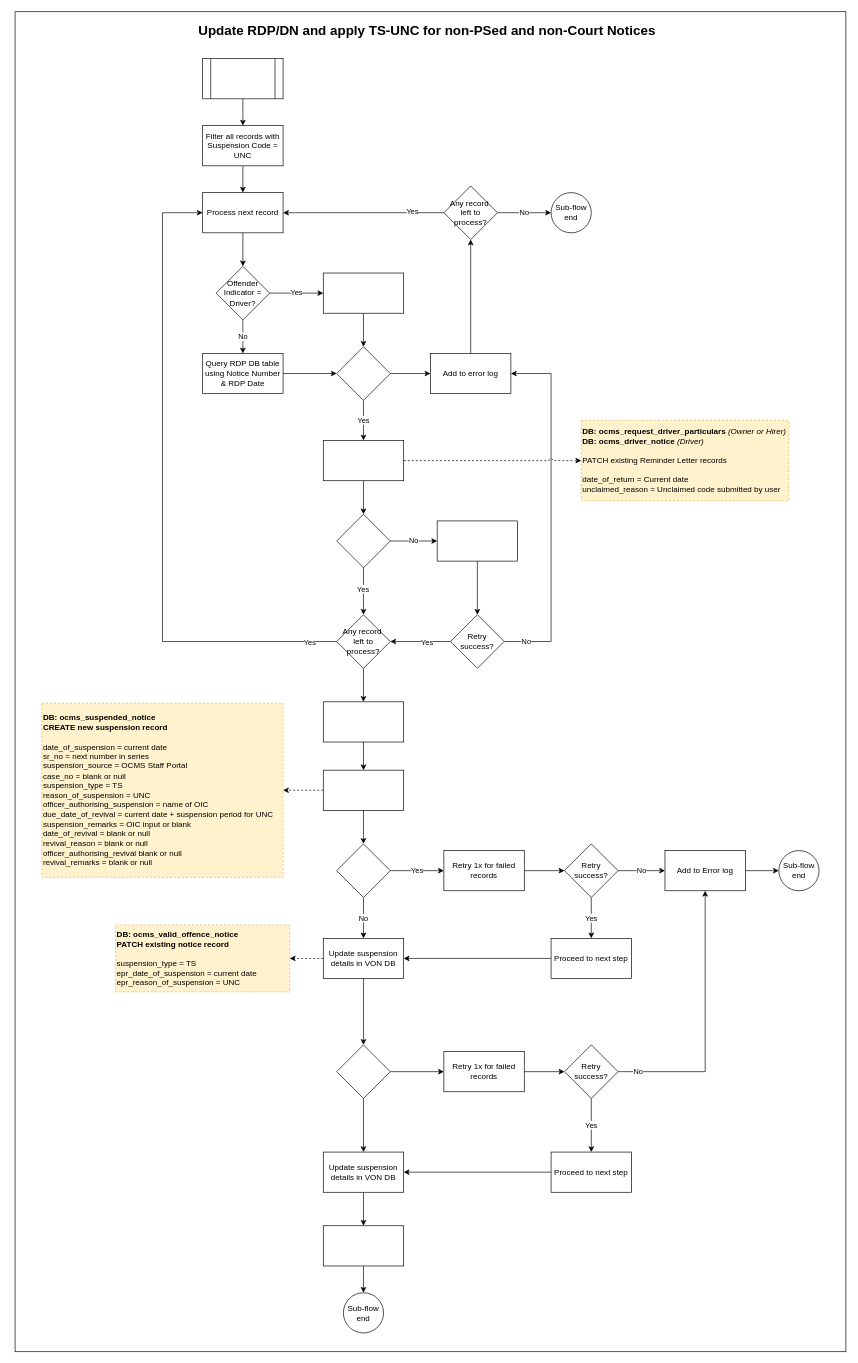
Image size: 858x1363. Some labels were removed from this diagram. Each missing label, with the box of its shape:
Add to list for Unclaimed Reminder Report generation: (323, 1225, 404, 1266)
Any record fail?: (336, 843, 390, 897)
Batch apply TS-UNC suspension to all records: (323, 769, 404, 810)
Proceed to suspend Notices with TS-UNC: (323, 701, 404, 742)
Process Update RDP/DN and apply TS-UNC: (202, 58, 283, 99)
Query DN DB table using Notice Number & DN Date: (323, 272, 404, 313)
Record found?: (336, 346, 390, 400)
Retry 1x: (437, 520, 518, 561)
Update date_of_return and reason_for_unclaim in RDP/DN DB: (323, 440, 404, 481)
Update success?: (336, 514, 390, 568)
VON update success?: (336, 1044, 390, 1098)
